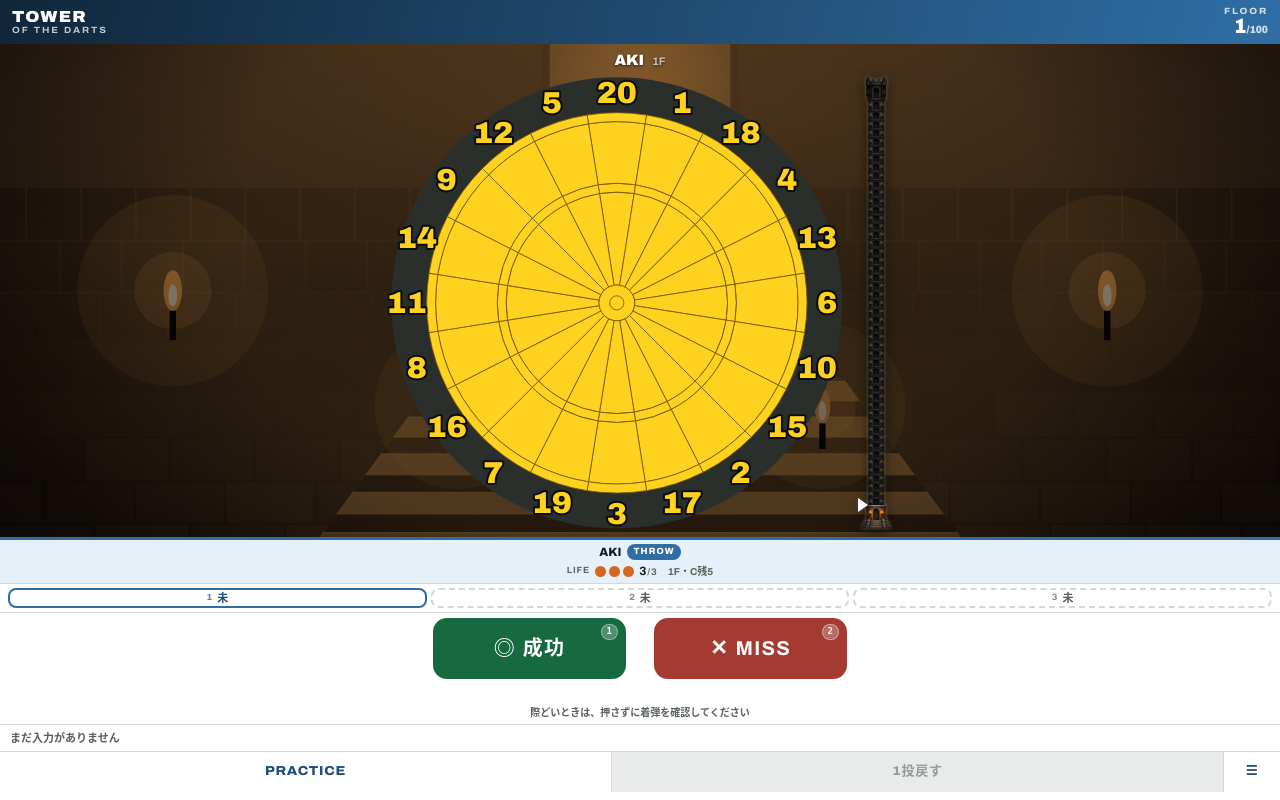
Scenario: waiting › replaces the judgement buttons with the pickup screen after three darts
Click the button with class "hit" at (530, 648), box [433,618,626,678]
Wait 240 ms
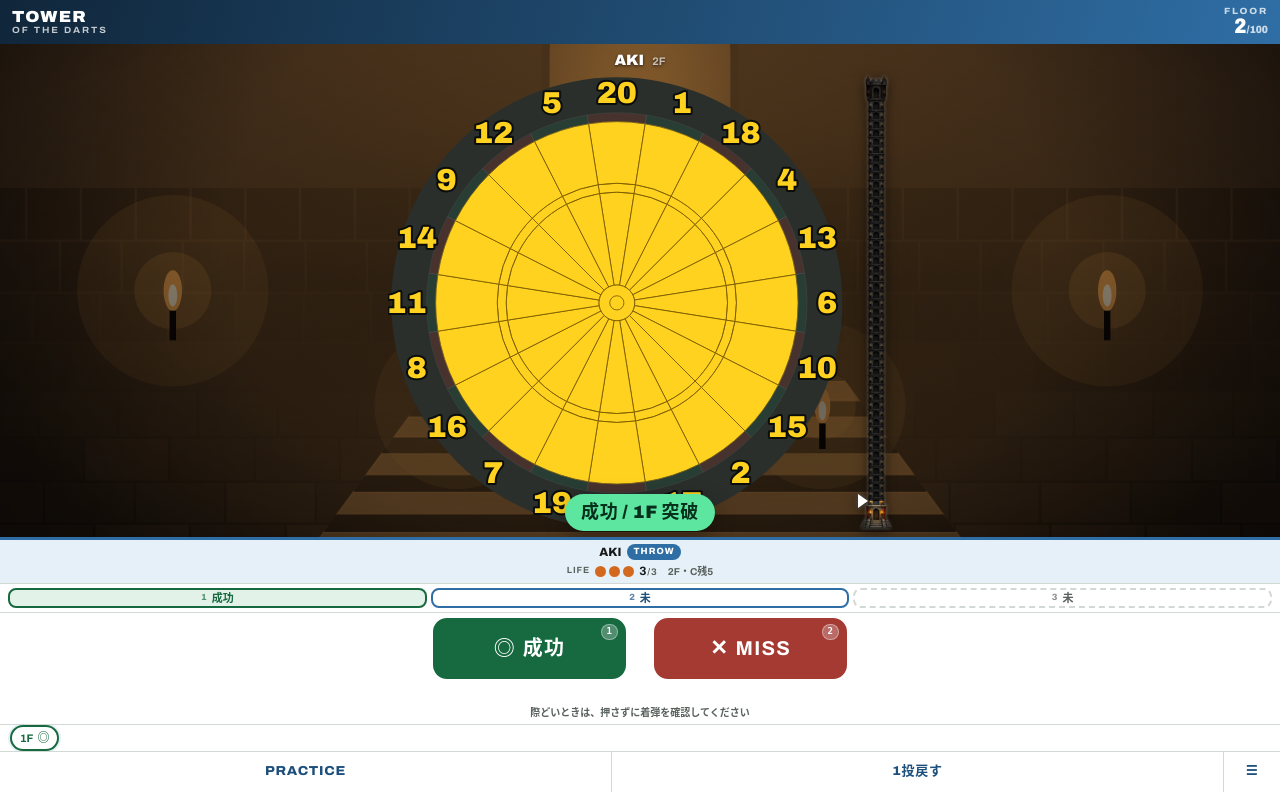
Click the button with class "hit" at (530, 648), box [433,618,626,678]
Wait 240 ms
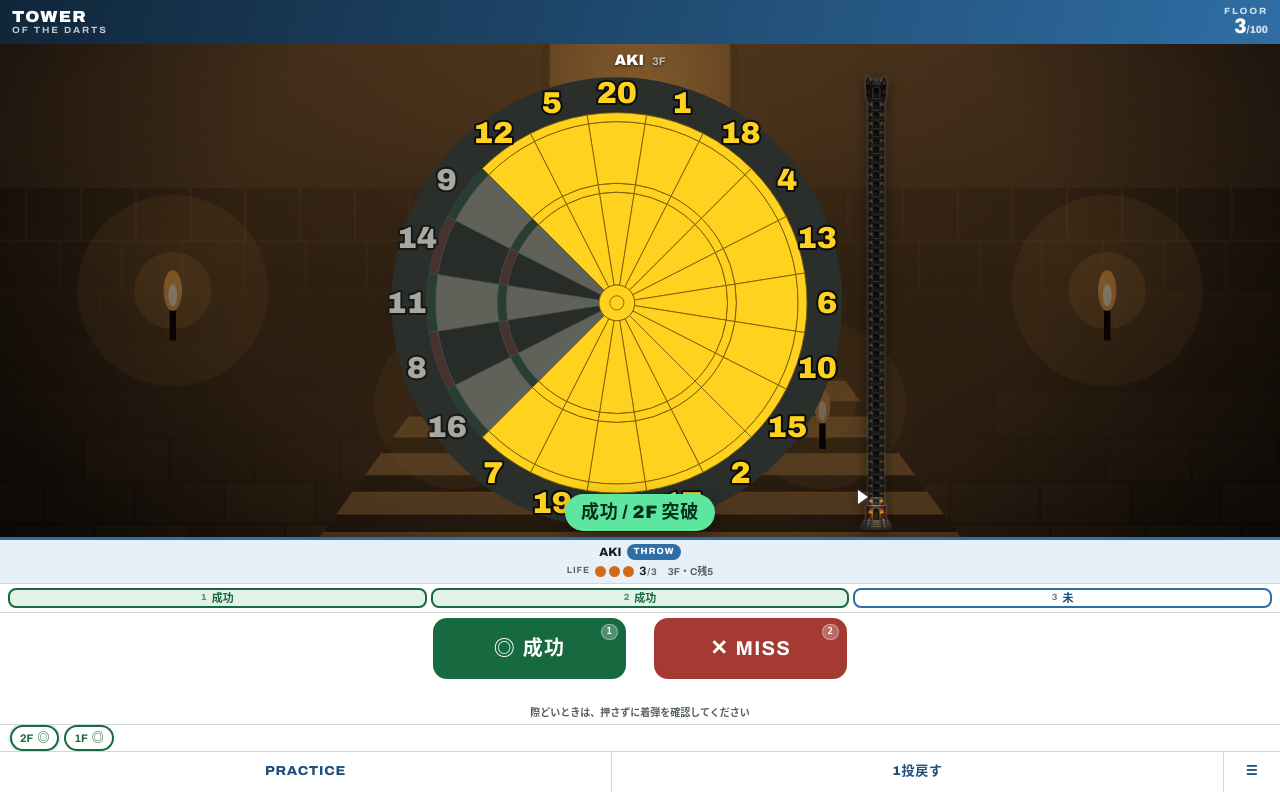
Click the button with class "hit" at (530, 648), box [433,618,626,678]
Wait 240 ms
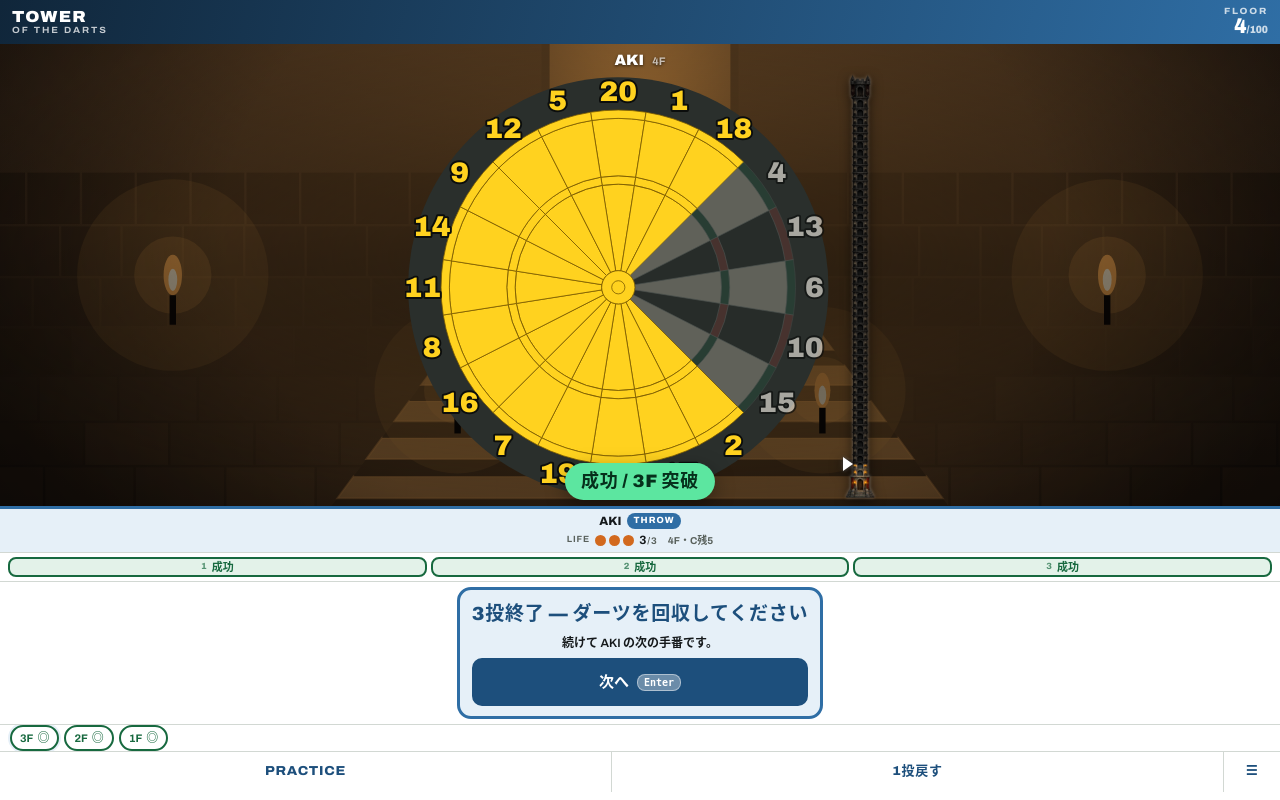
Check: the button with class "hit" is gone
Check: the button with class "miss" is gone
Check: the text "3投終了 — ダーツを回収してください" is shown, box [472,600,808,629]
Click the button "次へ Enter" at (640, 682), box [472,658,808,706]
Wait 240 ms
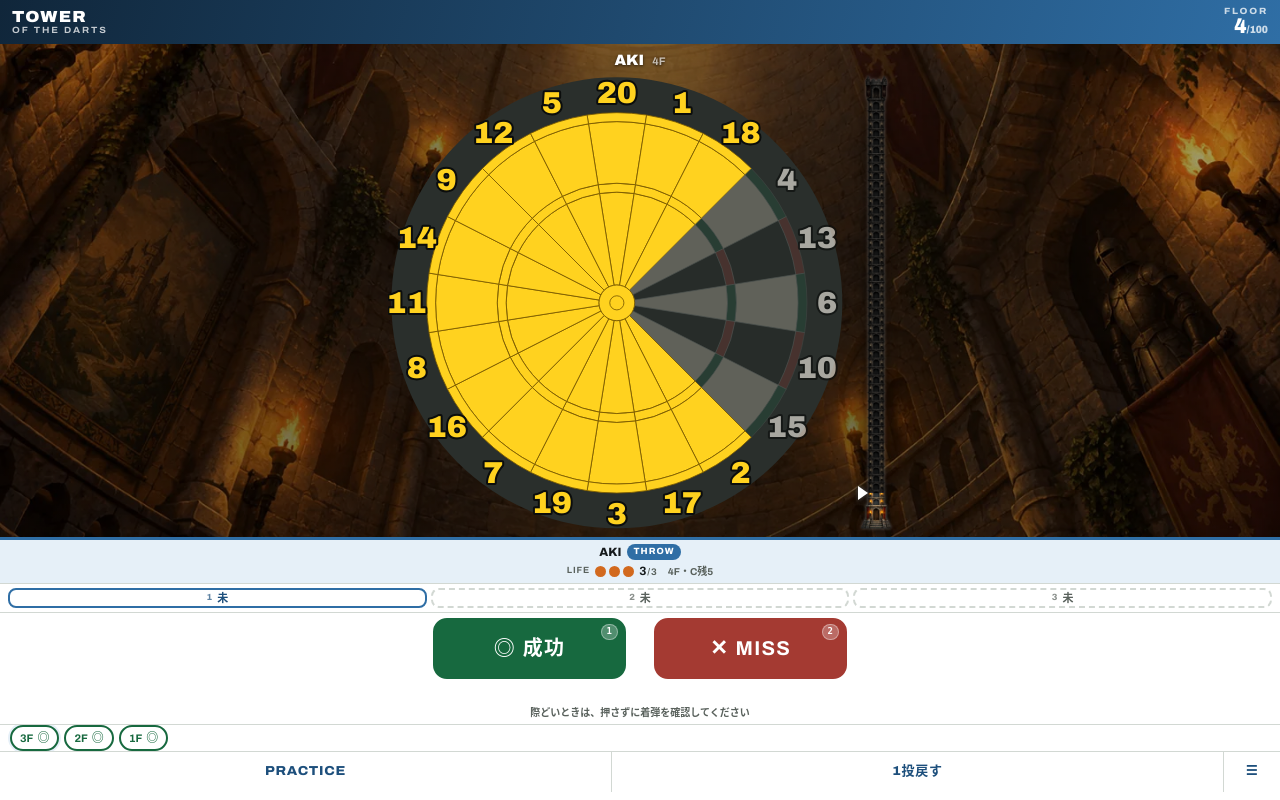
Check: the button with class "hit" is shown, box [433,618,626,678]
